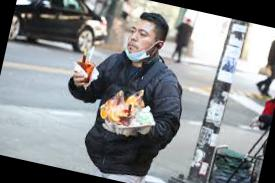mask_weared_incorrect: (117, 21, 158, 65)
